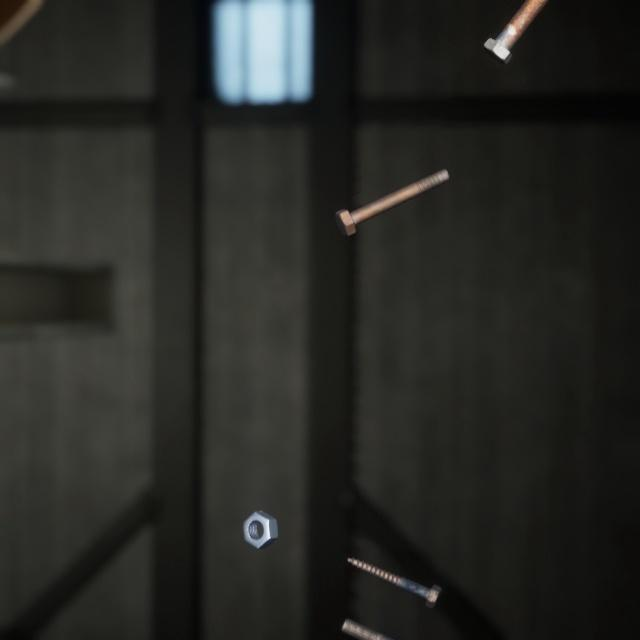bolt: (330, 150, 454, 226), (343, 531, 445, 590), (336, 591, 451, 640), (478, 0, 548, 62)
nut: (238, 484, 282, 530)
